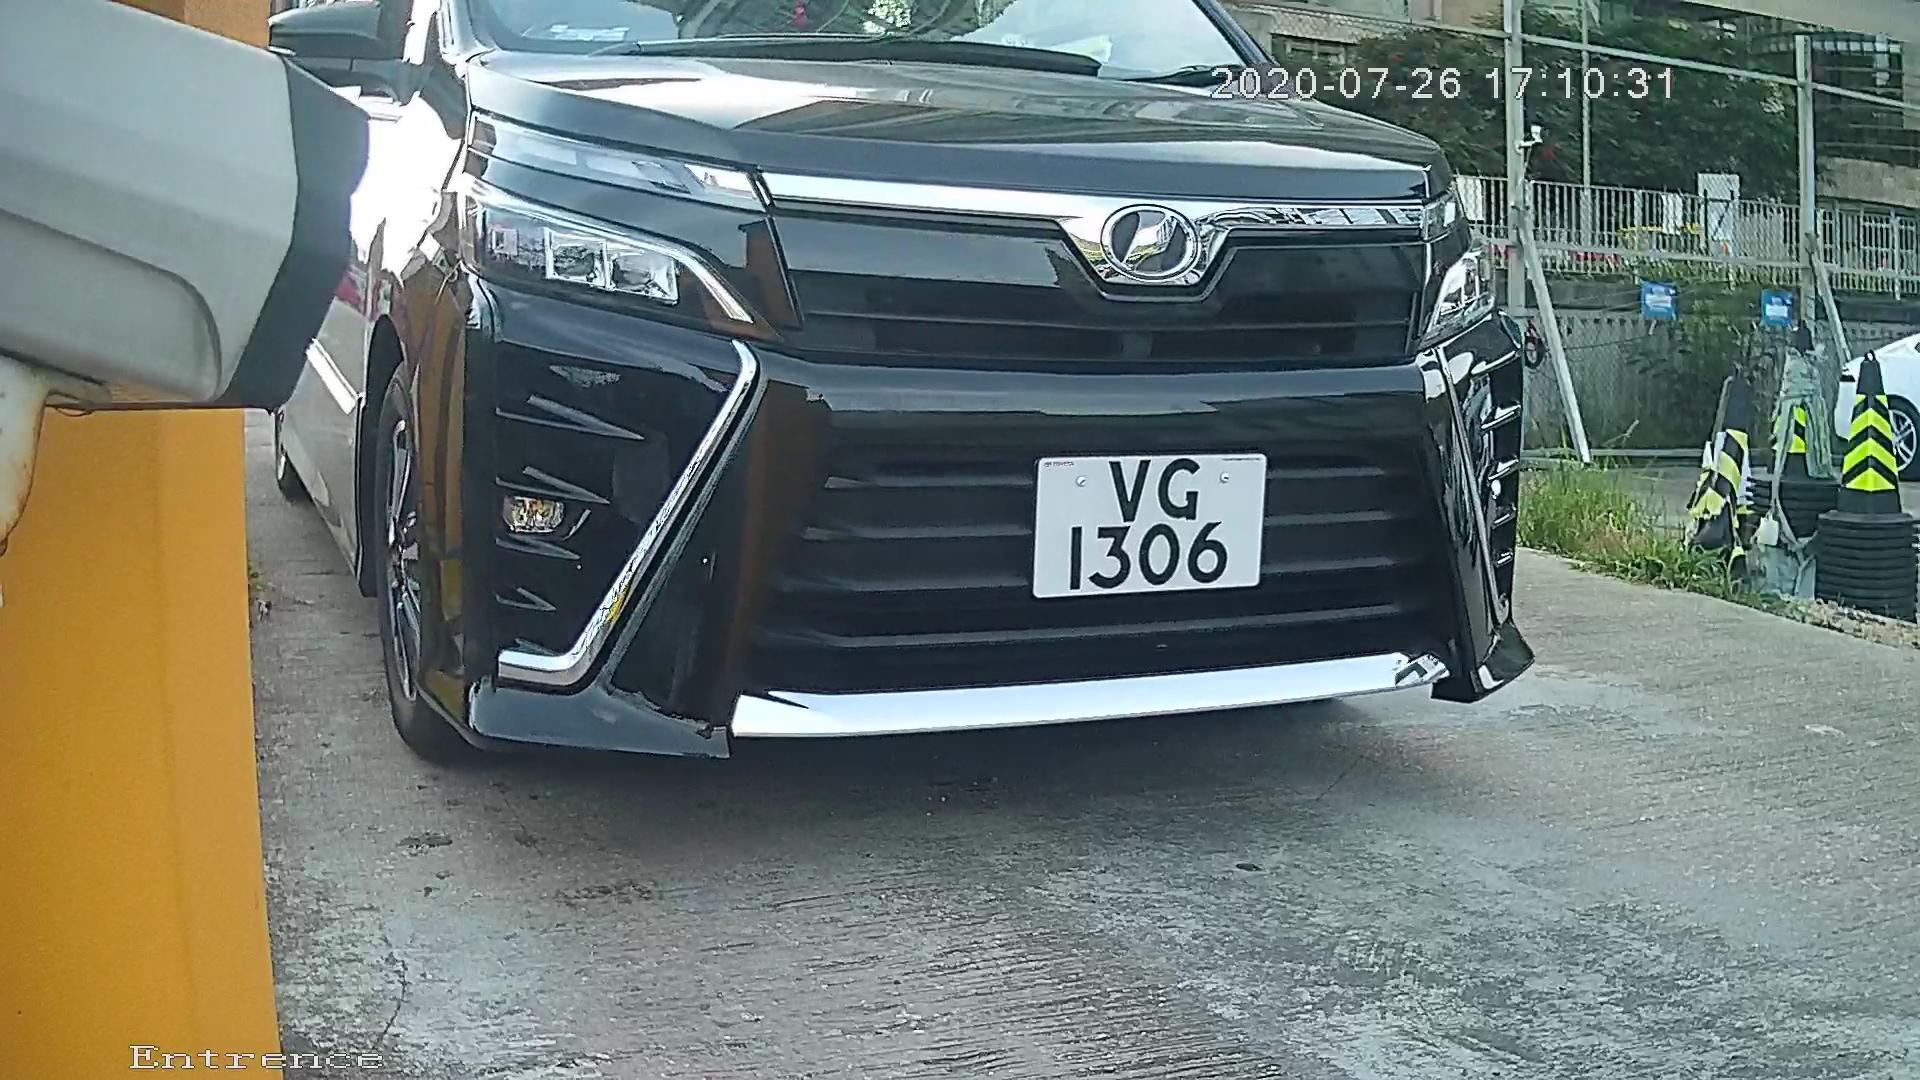privatecar: (223, 20, 1749, 800)
